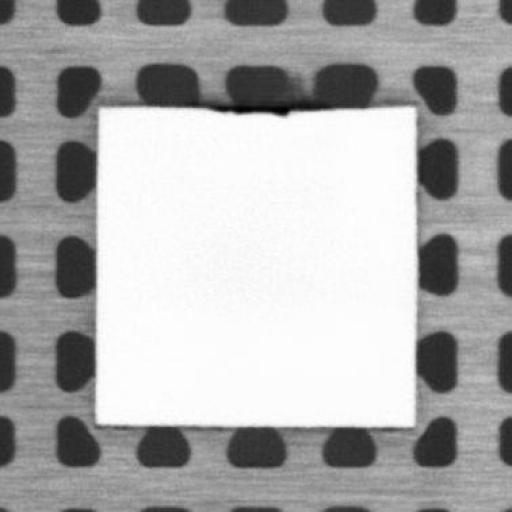DIE_BROKEN: (206, 98, 334, 119)
